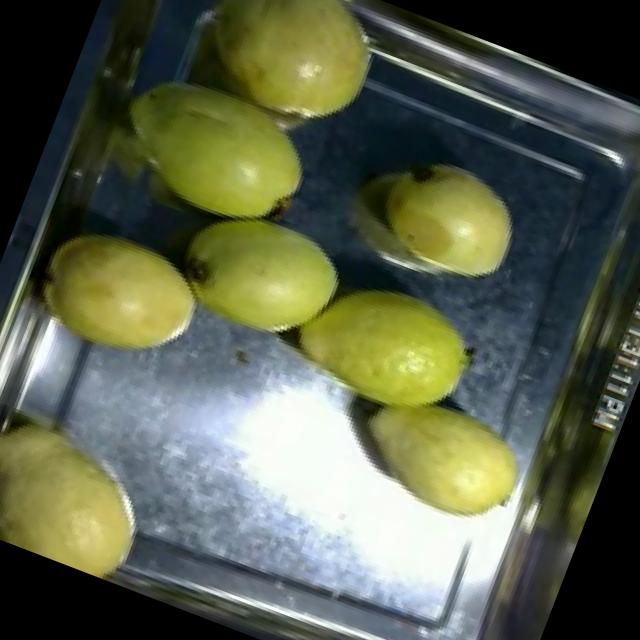Fruit: (88, 44, 336, 264), (264, 246, 499, 448), (152, 182, 366, 374), (13, 200, 228, 390), (332, 366, 548, 551), (160, 0, 401, 155), (0, 387, 182, 591), (352, 137, 538, 307)
